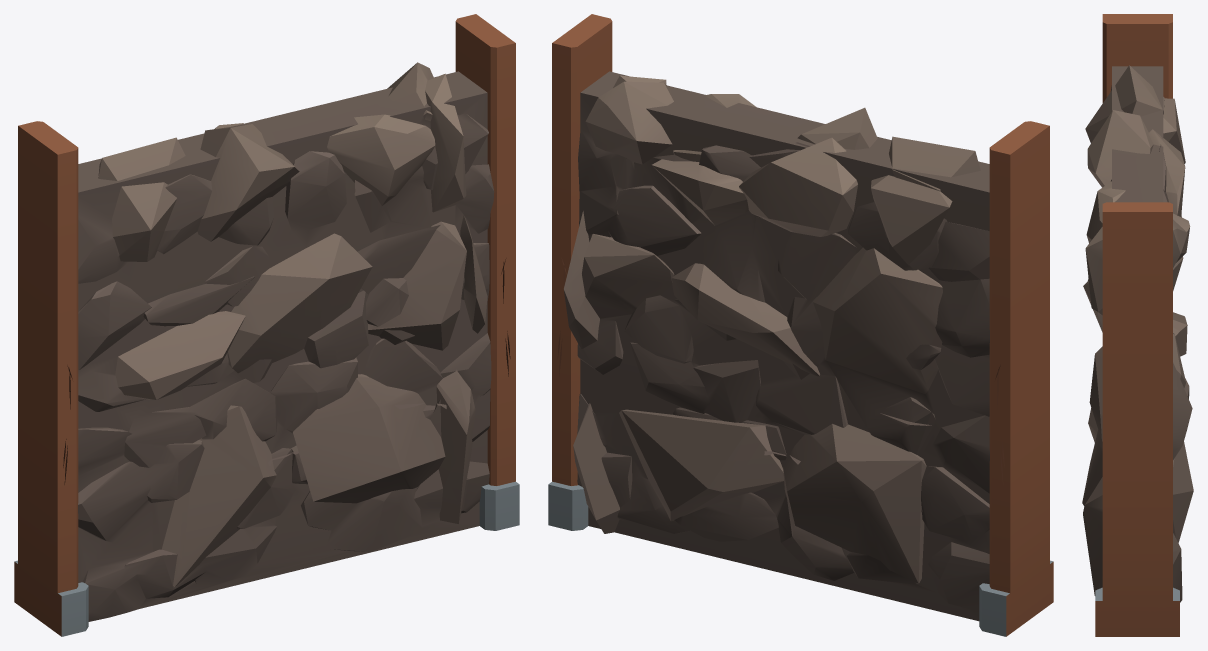
The model's file is wall_cave_C.glb.
3 views of the same model, side by side, from view 1: azimuth 30°, elevation 25°; view 2: azimuth 150°, elevation 25°; view 3: azimuth 270°, elevation 25° (orthographic). The views are drawn at different scales.
Parts seen in each view (by area): view 1: Item; view 2: Item; view 3: Item.
Boxes of the visible parts, <box> form: Item: <box>14,14,519,636</box>; Item: <box>548,14,1053,636</box>; Item: <box>1082,14,1193,636</box>.
Size of the model in its own units: 4 by 4 by 0.9527.
Materials: 1 (1 with a texture image).
